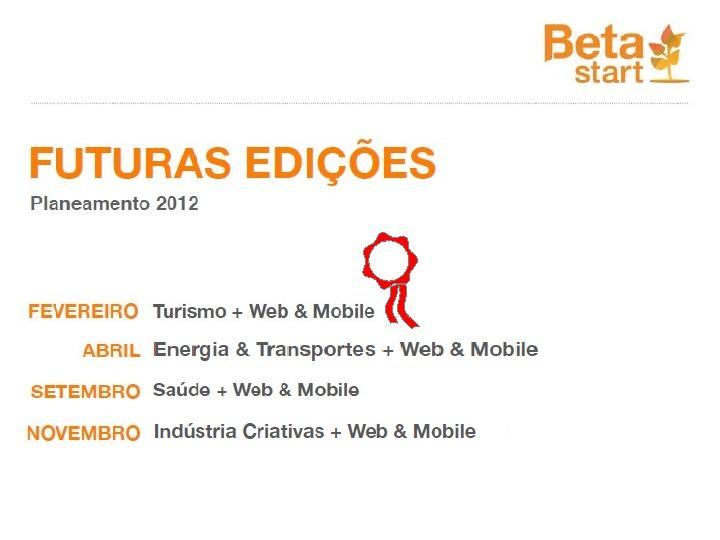paragraph: (17, 190, 566, 457)
title: (27, 128, 456, 193)
